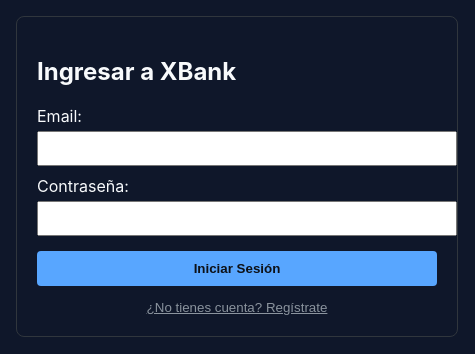
Test: Componente: Login › alterna entre el modo Login y Registro
// Cambiar a registro
Click the button "¿No tienes cuenta? Regístrate".
click(237, 307)  # box [37,299,437,316]
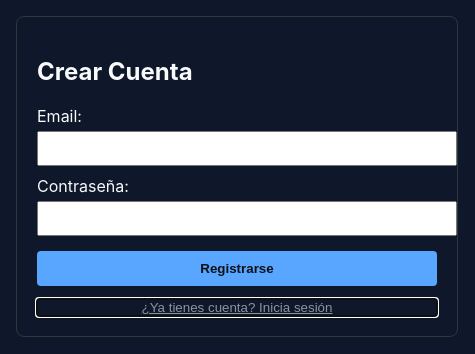
Result: the heading "Crear Cuenta" is shown at [37,57,193,86]
Result: the button "Registrarse" is shown at [37,251,437,286]
// Volver a login
Click the button "¿Ya tienes cuenta? Inicia sesión".
click(237, 307)  # box [37,299,437,316]
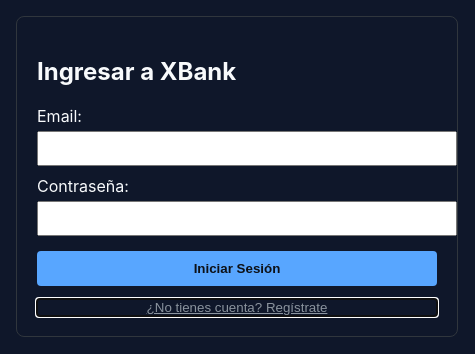
Result: the heading "Ingresar a XBank" is shown at [37,57,236,86]
